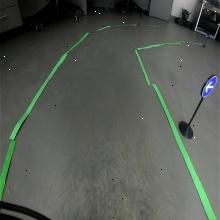left: (200, 75, 218, 98)
